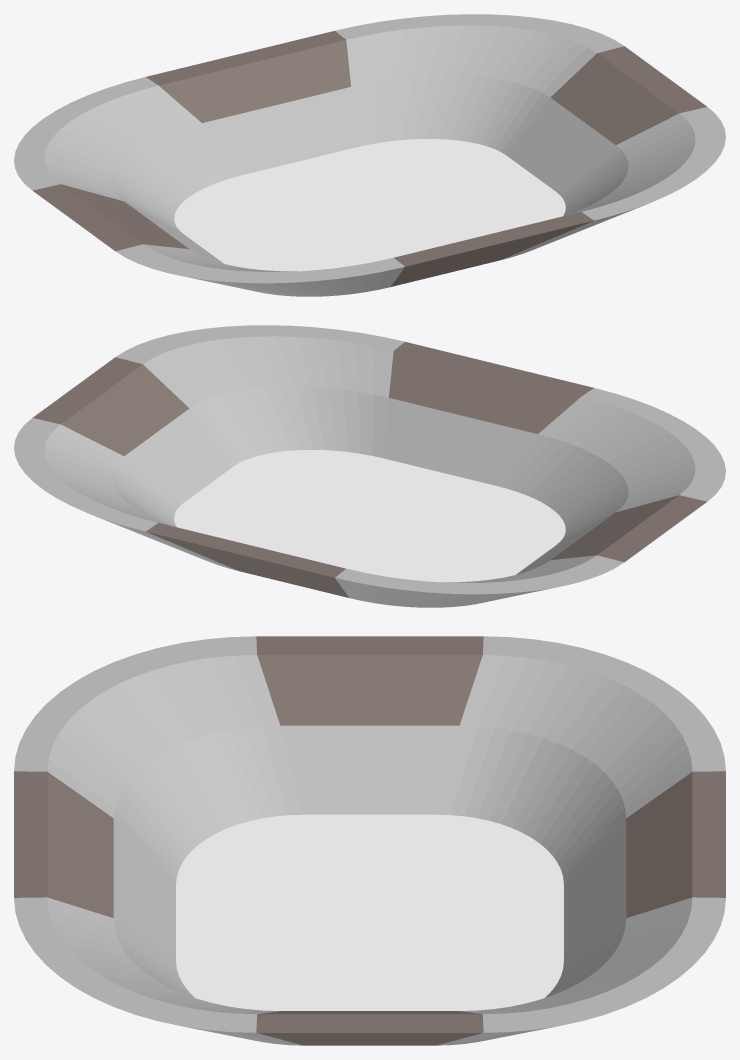
The model's file is Res01_Plate3.fbx.
3 renders of one model, top to bottom at view 1: azimuth 30°, elevation 25°; view 2: azimuth 150°, elevation 25°; view 3: azimuth 270°, elevation 25°, orthographic. The views are drawn at different scales.
Parts seen in each view (by area): view 1: Res01_Plate3; view 2: Res01_Plate3; view 3: Res01_Plate3.
Boxes of the visible parts, x1,y1,x2,y2 form: Res01_Plate3: (14,14,725,296); Res01_Plate3: (14,325,725,607); Res01_Plate3: (14,636,725,1045).
Bounding box in the file's own units: 77.37 × 8.72 × 58.71.
